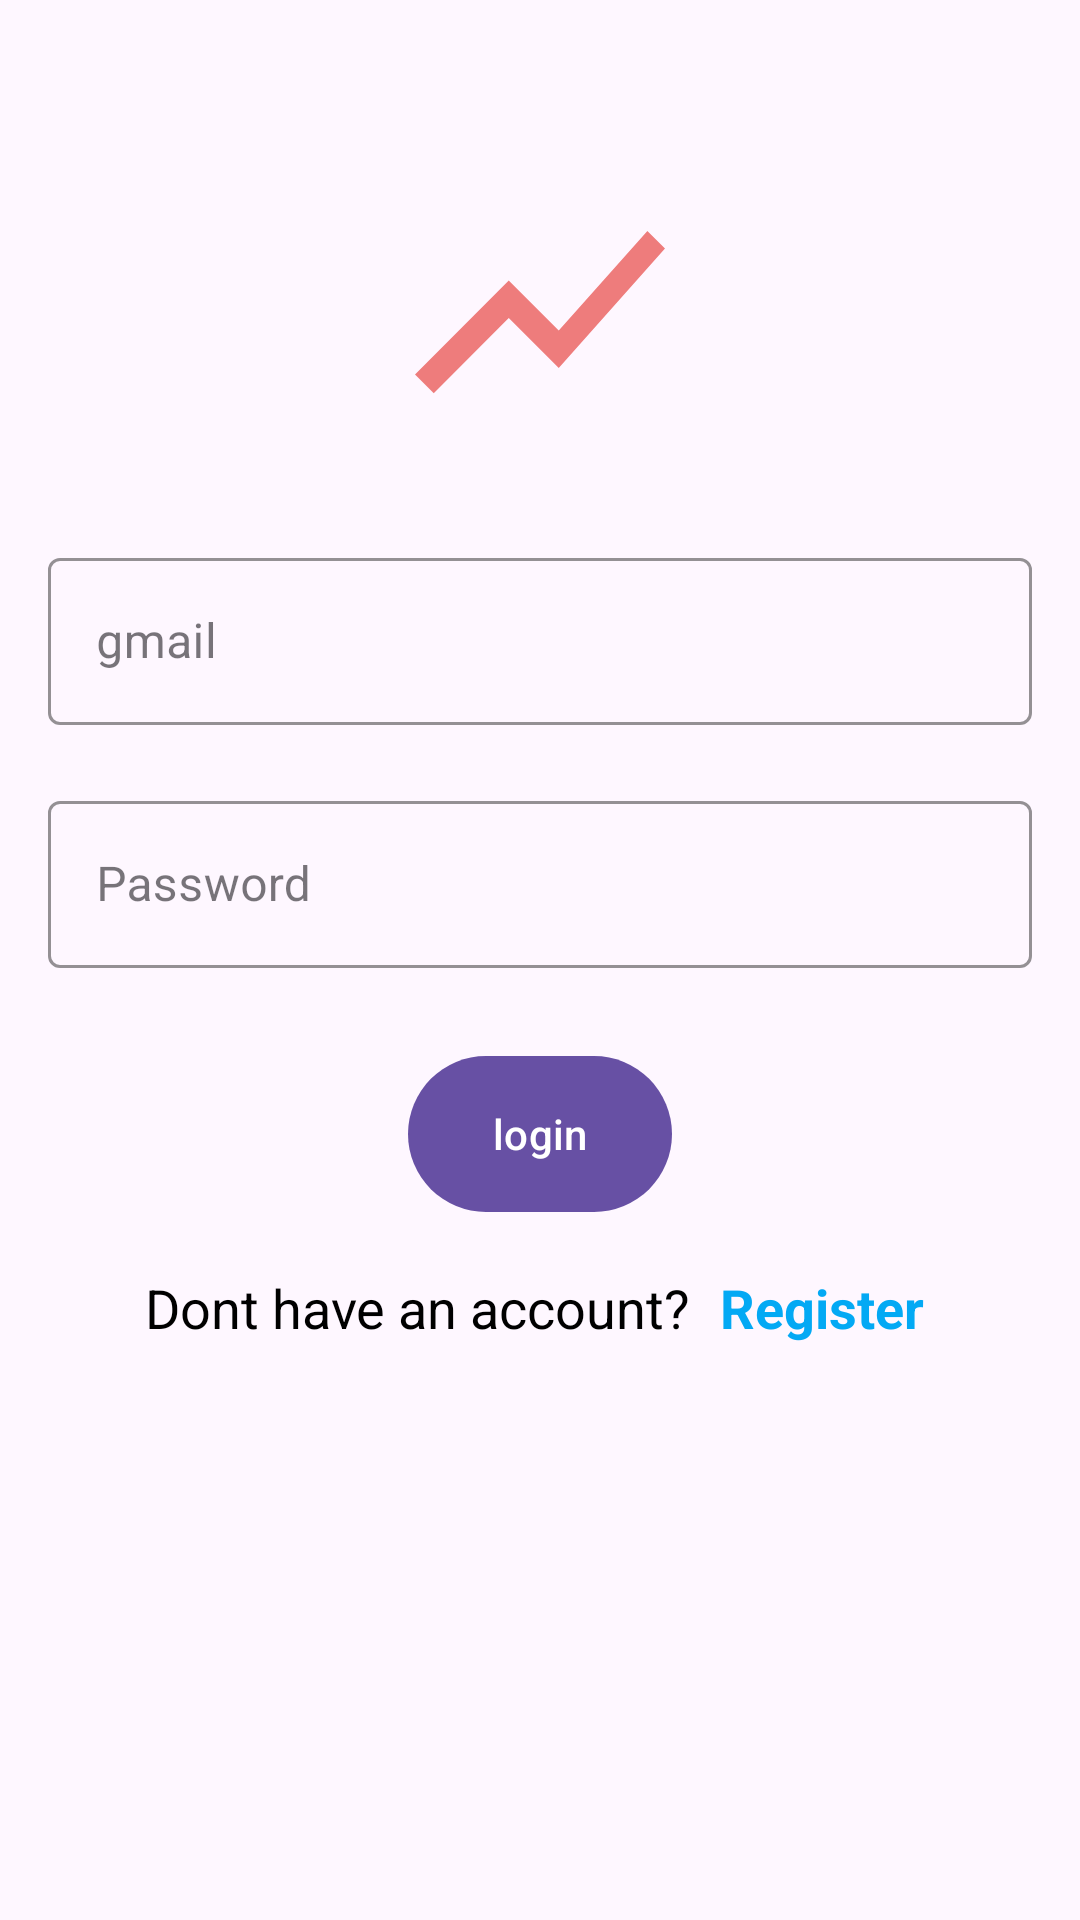

Icon click points for this 1080 x 1920 phone screenshot, format point (x, y):
show chart: point (540, 312)
